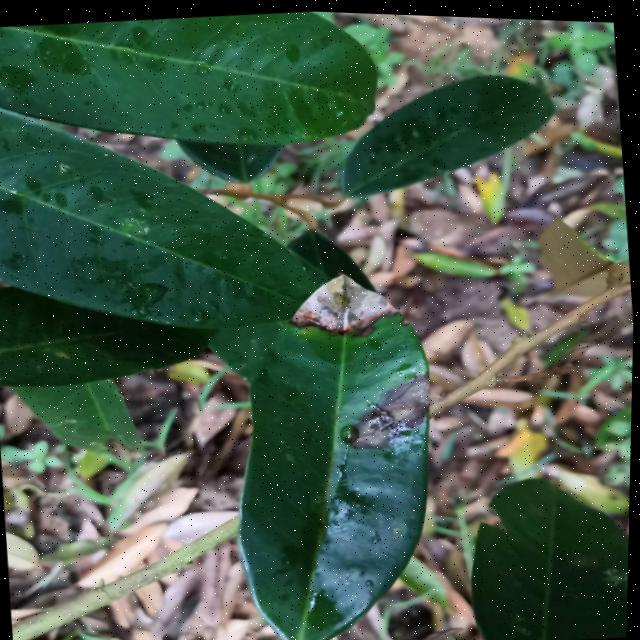Phytophthora: (254, 348, 492, 640)
